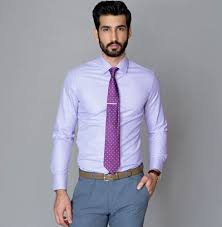F_belt: (76, 164, 147, 185)
F_shirt: (39, 48, 174, 195)
F_tie: (102, 62, 121, 173)
